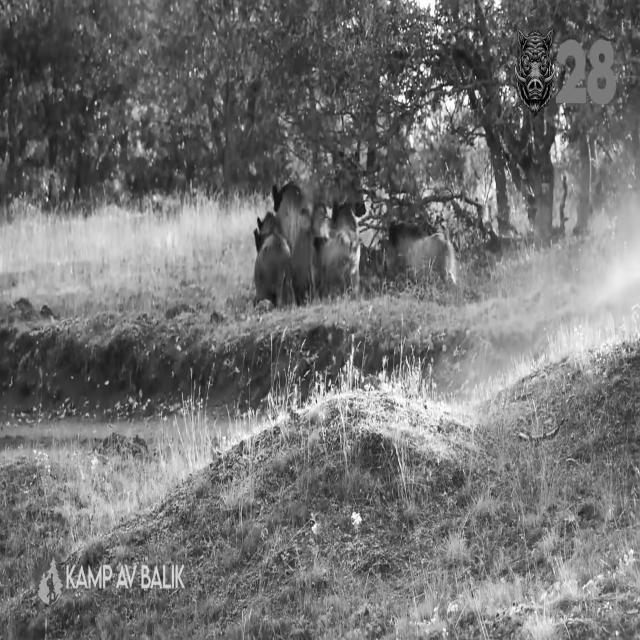boar: (254, 170, 363, 305), (386, 206, 455, 280)
